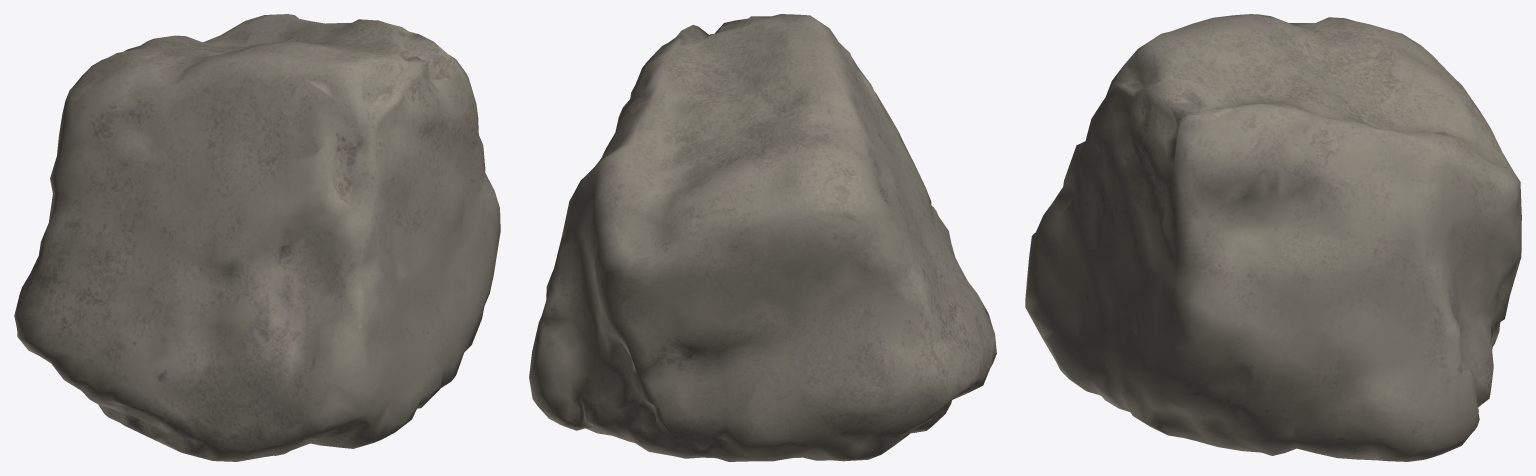
The model's file is moon_rock_02-transformed.glb.
3 renders of one model, left to right at view 1: azimuth 30°, elevation 25°; view 2: azimuth 150°, elevation 25°; view 3: azimuth 270°, elevation 25°, orthographic. The views are drawn at different scales.
Parts seen in each view (by area): view 1: moon_rock_02_LOD0; view 2: moon_rock_02_LOD0; view 3: moon_rock_02_LOD0.
Part boxes in pixels (<box>): moon_rock_02_LOD0: <box>14,14,500,461</box>; moon_rock_02_LOD0: <box>529,14,996,461</box>; moon_rock_02_LOD0: <box>1025,14,1521,461</box>.
Size of the model in its own units: 0.2465 by 0.2019 by 0.2513.
Materials: 1 (1 with a texture image).
